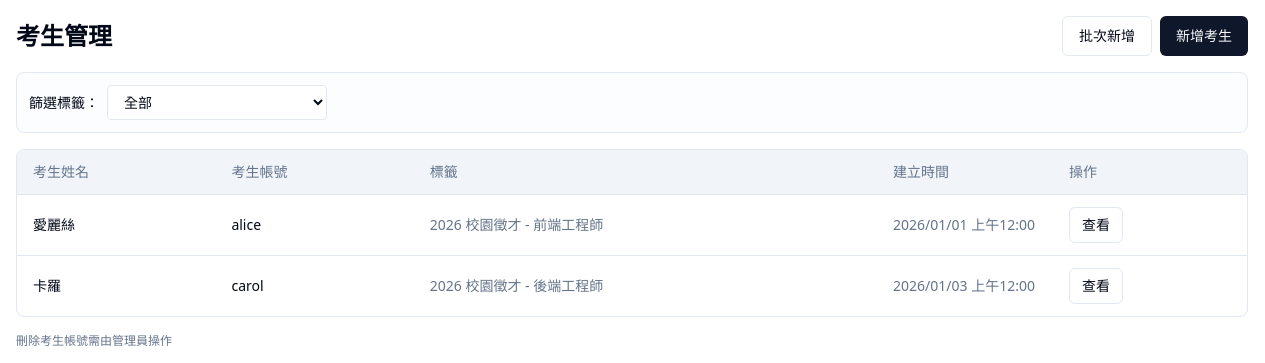
CandidateListPage › shows empty message when no candidates match the selected tag
Check: the text "alice" is shown, box x1=215 y1=194 x2=414 y2=256
Step 1. Select "實習生" in the dropdown labelled "篩選標籤：" → (217, 102), box x1=107 y1=85 x2=327 y2=120
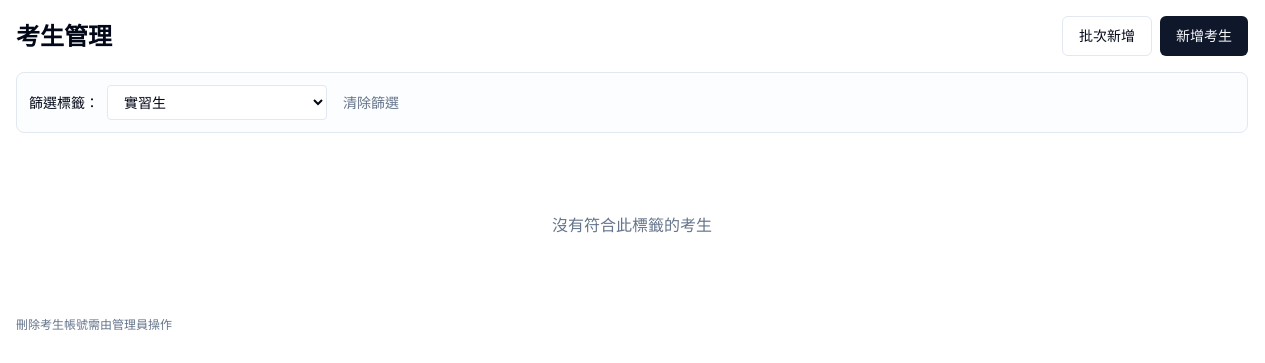
Check: the text "沒有符合此標籤的考生" is shown, box x1=552 y1=214 x2=712 y2=236
Check: the text "alice" is gone
